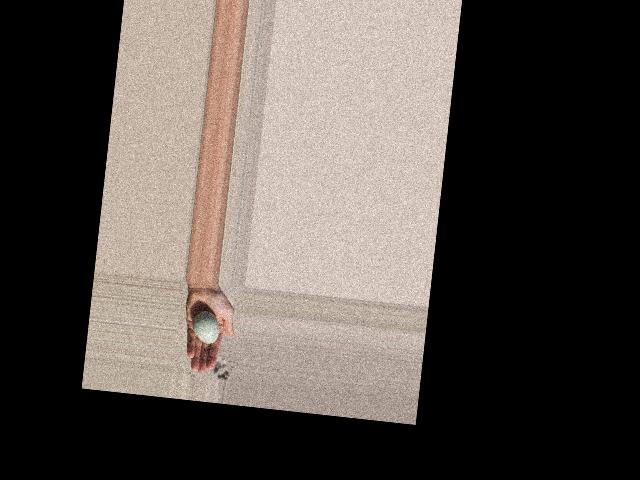egg: (190, 310, 220, 344)
